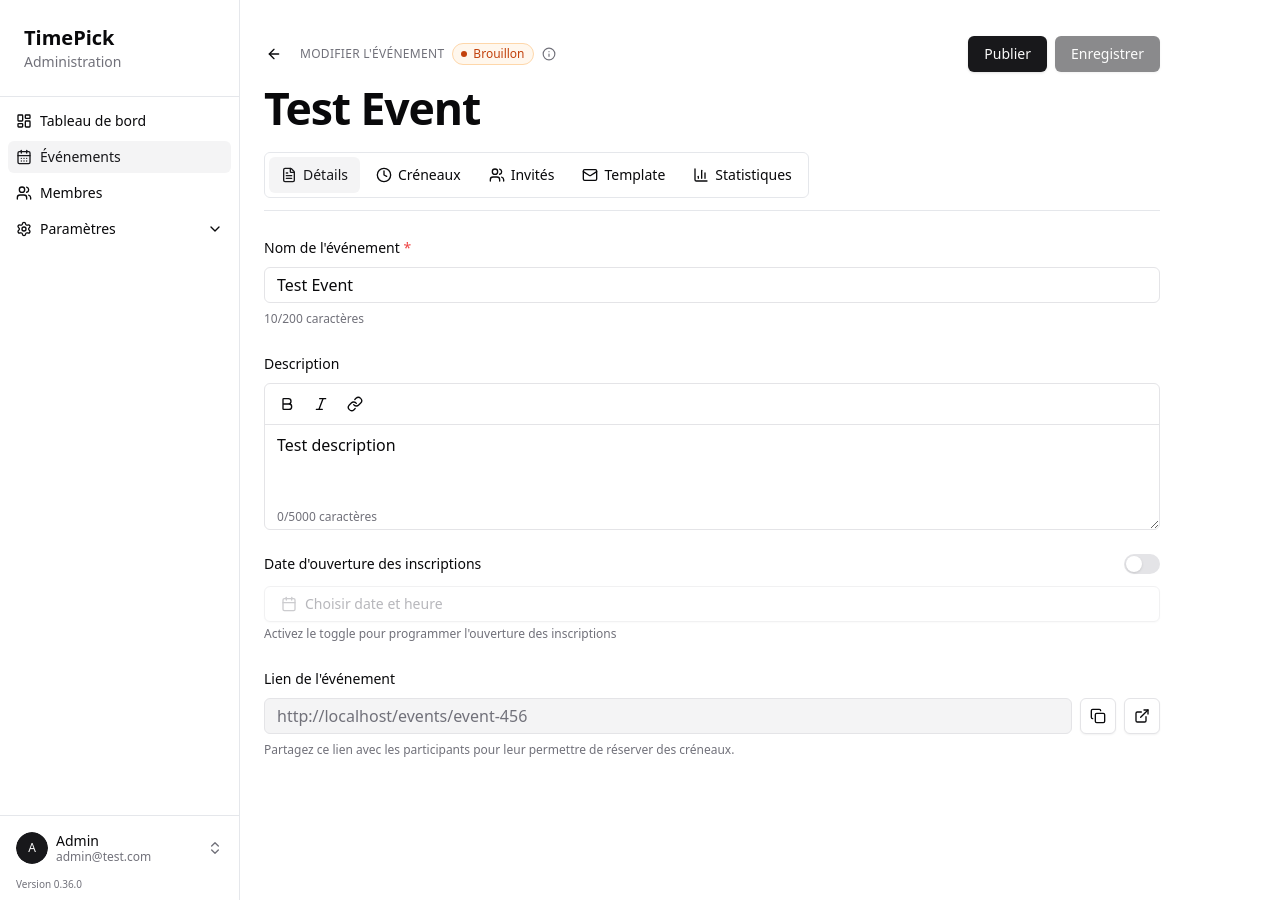
Test: EventEditPage › Edit Mode › affiche les cards entonnoir et répartition par événement dans l'onglet Statistiques
Click the radio button labelled "Statistiques". click: (743, 175)
box: [681,157,804,193]
(page scrolled)
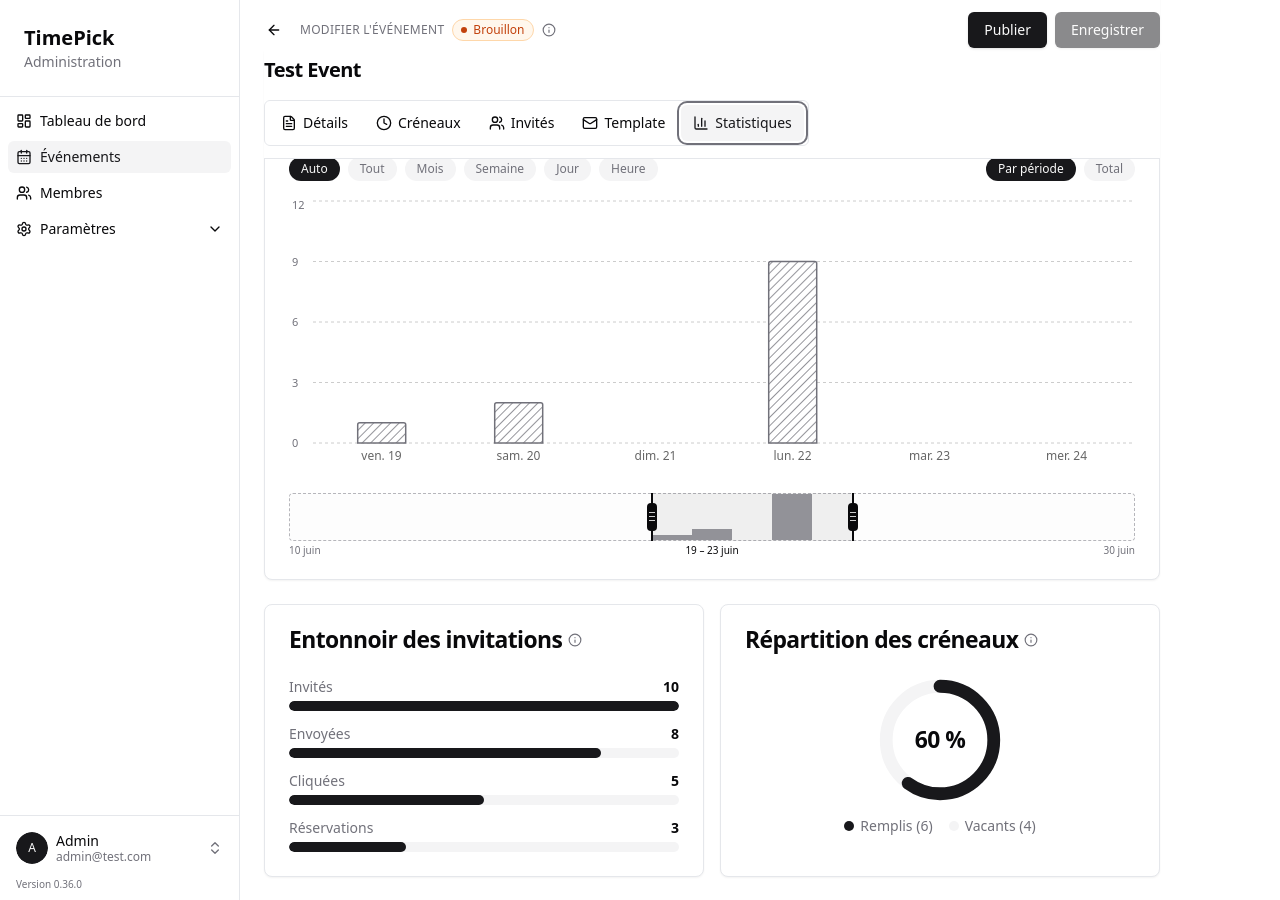
Expected: the heading "Entonnoir des invitations" is shown, [289,629,562,652]
Expected: the heading "Répartition des créneaux" is shown, [745,629,1018,652]
Expected: the text "Remplis (6)" is shown, [844,816,933,836]
